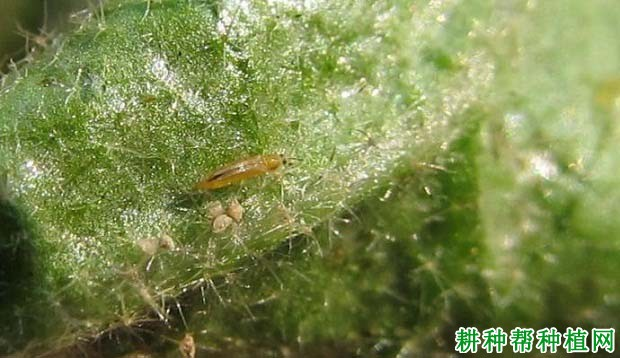thrips: (190, 149, 288, 193)
